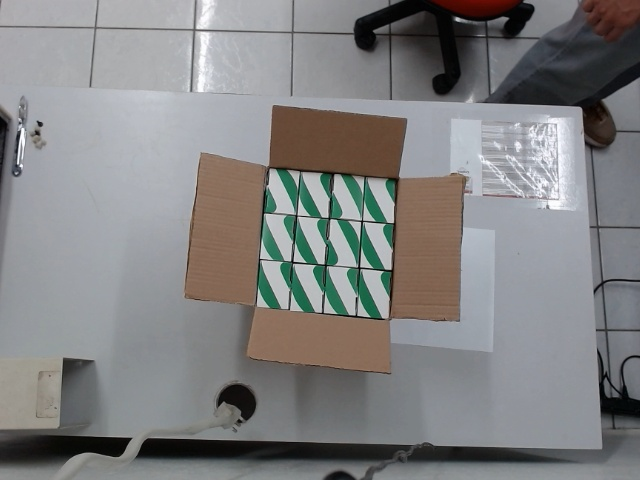divisor: (390, 228, 501, 353)
item: (287, 261, 329, 318), (322, 263, 362, 320), (355, 265, 394, 322), (296, 168, 337, 221), (258, 210, 299, 263), (254, 258, 295, 311), (357, 219, 395, 273), (262, 164, 301, 216), (328, 171, 367, 223), (362, 174, 401, 226), (326, 218, 363, 272), (293, 213, 331, 265)
